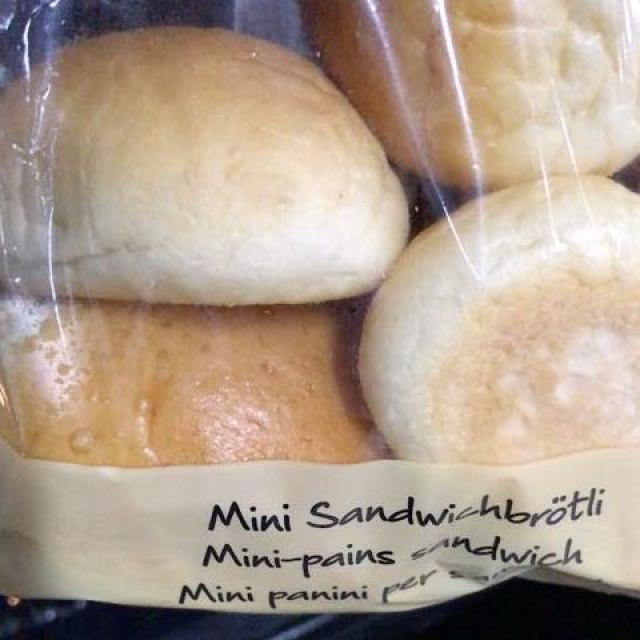bread: (2, 0, 639, 464)
